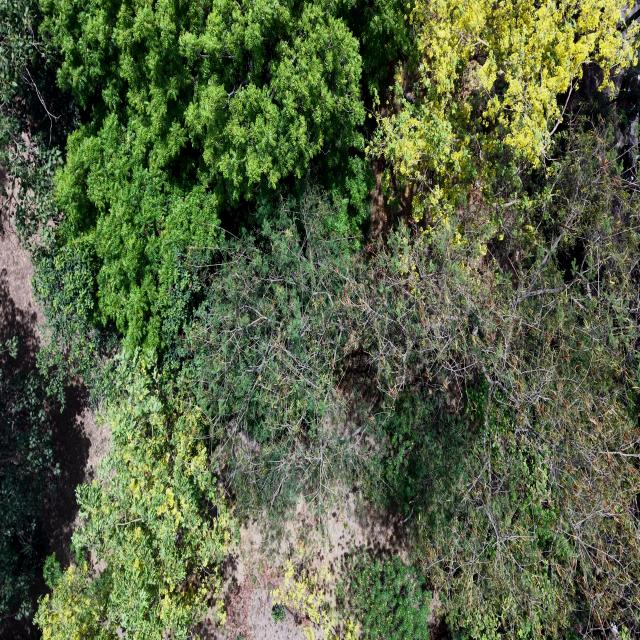DRY_AREA: (203, 488, 411, 639), (199, 490, 409, 639), (200, 492, 409, 639), (199, 492, 408, 639), (201, 493, 406, 639), (40, 379, 110, 564), (40, 380, 110, 564), (40, 380, 109, 562), (43, 379, 110, 560), (42, 380, 94, 563), (202, 546, 299, 639), (199, 575, 307, 639), (51, 380, 110, 480), (0, 232, 39, 373), (0, 224, 43, 343), (368, 156, 416, 243), (368, 157, 415, 244), (244, 588, 300, 639), (370, 157, 390, 239)
VEGETATION_TREE: (0, 0, 639, 639), (372, 2, 638, 636), (35, 1, 408, 440), (381, 127, 639, 635), (43, 1, 368, 351), (420, 127, 639, 635), (367, 0, 637, 251), (187, 185, 362, 535), (36, 360, 233, 639), (374, 0, 637, 185), (0, 0, 118, 400), (0, 0, 78, 249), (0, 337, 59, 617), (0, 338, 59, 617), (33, 242, 121, 402), (339, 551, 431, 639), (271, 557, 354, 639), (272, 603, 285, 623)
